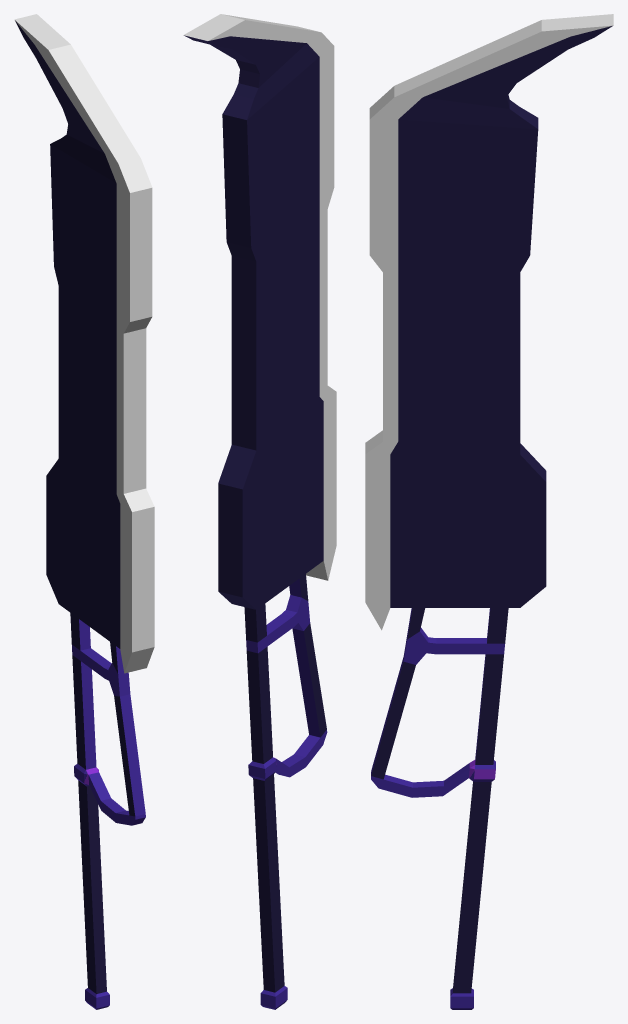
The model's file is sword.fbx.
The picture shows the model from 3 angles, left to right: view 1: azimuth 30°, elevation 25°; view 2: azimuth 150°, elevation 25°; view 3: azimuth 270°, elevation 25°; orthographic projection. The views are drawn at different scales.
Visible parts, largest first — view 1: Blade, EdgeOutline, Handle; view 2: Blade, Handle, EdgeOutline; view 3: Blade, EdgeOutline, Handle.
Part boxes in pixels (<box>): Blade: <box>15,20,120,648</box>; EdgeOutline: <box>14,14,154,673</box>; Handle: <box>70,613,145,1009</box>; Blade: <box>184,35,323,609</box>; Handle: <box>244,574,327,1009</box>; EdgeOutline: <box>183,14,336,580</box>; Blade: <box>390,26,612,607</box>; EdgeOutline: <box>365,14,613,630</box>; Handle: <box>371,608,508,1009</box>.
Bounding box in the file's own units: 9.56 × 86.62 × 380.
